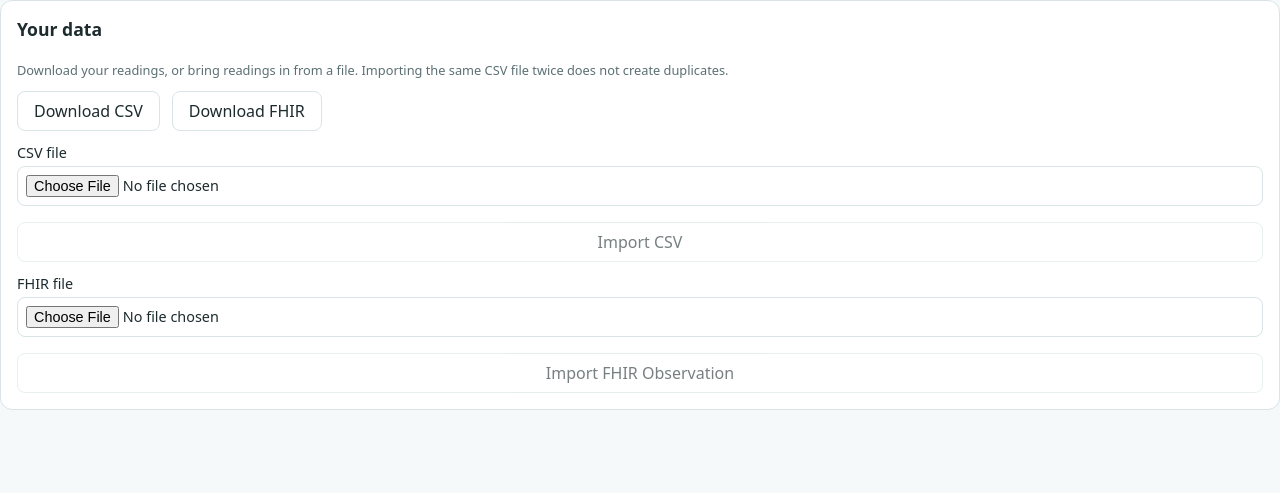
Test: DataToolsPanel downloads › downloads the CSV through the API client and saves it under the server's file name
Click the button "Download CSV": x=88, y=111 [17,91,160,131]
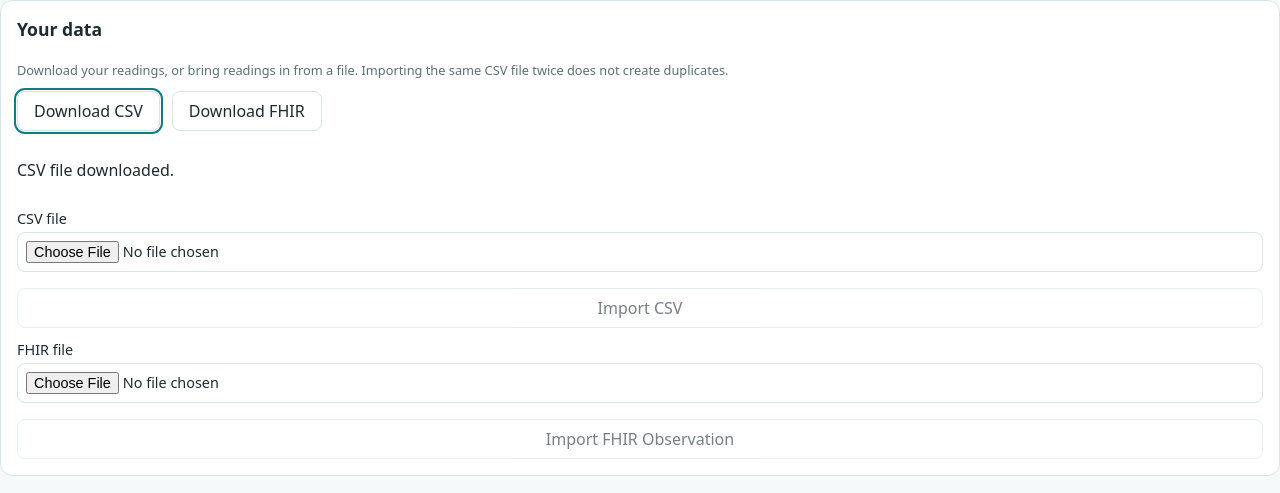
Result: the message reads "CSV file downloaded." at [17,159,174,181]
